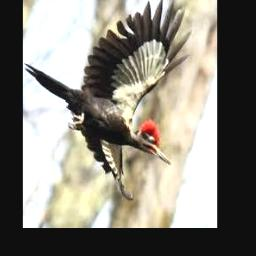Woodpecker: (24, 0, 191, 199)
